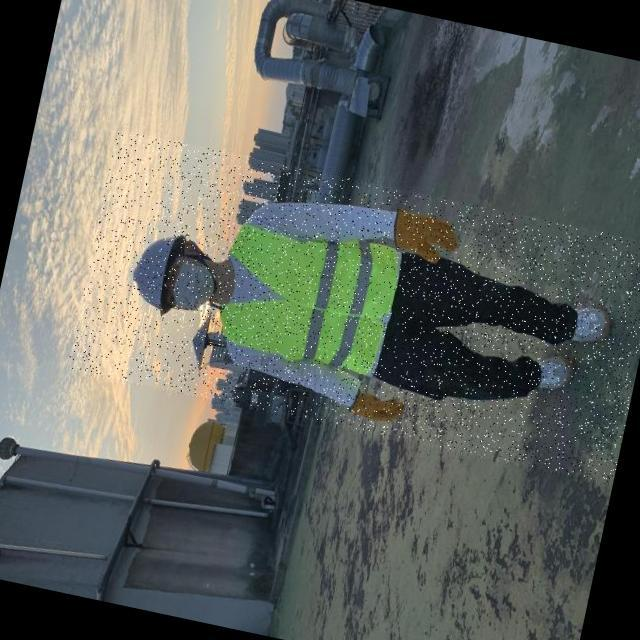Gloves: (383, 205, 465, 276), (333, 382, 420, 443)
Helmet: (115, 224, 192, 326)
Person: (98, 190, 634, 471)
Safety Boot: (559, 296, 618, 356), (521, 345, 579, 405)
Safety Vest: (201, 214, 405, 382)
